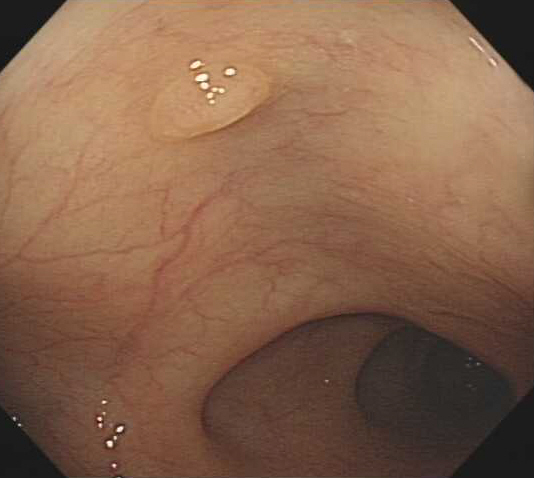adenoma: (145, 59, 272, 142)
